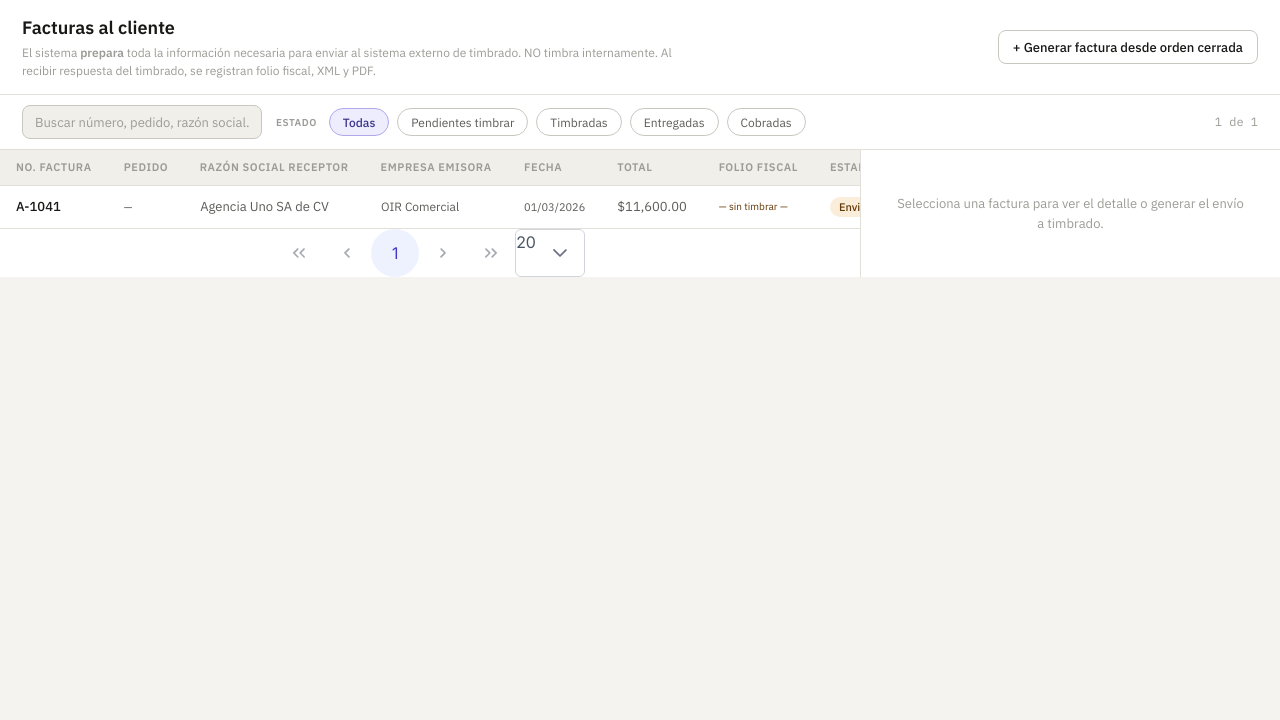
Test case: FacturasClientePage › en 'enviada_a_timbrado' ofrece registrar el timbrado
What coordinates should you click on to do the following:
click the text "A-1041"
I would click on:
 (54, 207)
Its box is [0,185,108,228].
(page scrolled)
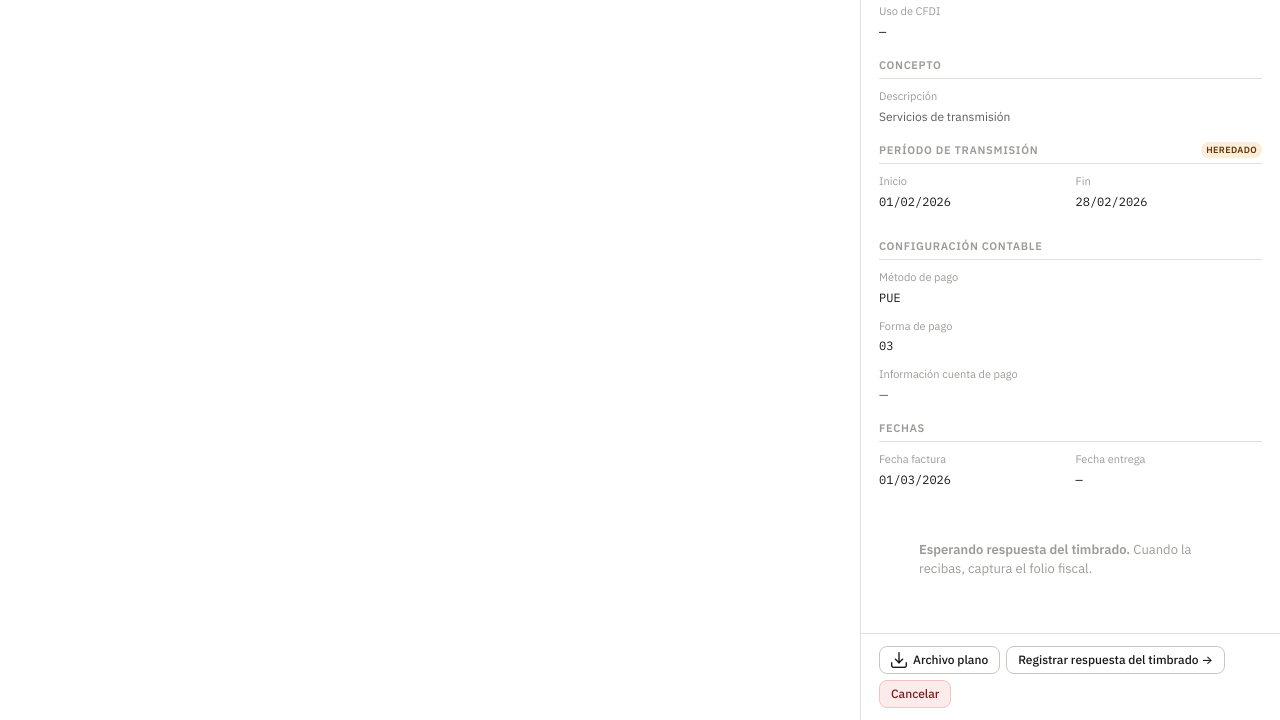
Expected: the button "Registrar respuesta del timbrado →" is shown, [1006,646,1225,674]
